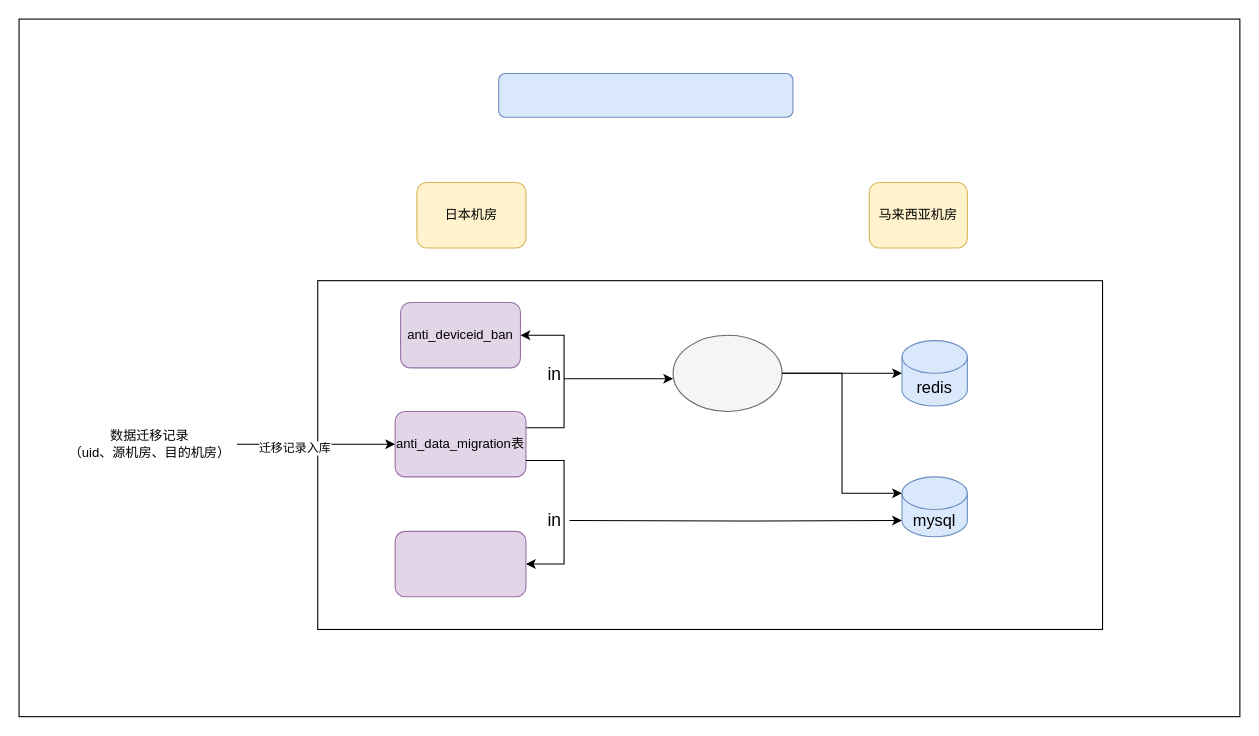
The diagram is 1259 pixels wide and 736 high, and some of its shapes have lost their labels. Here are the shapes that lost their labels. From the top down, the centre of each, then its label:
At (x=645, y=94): "宙斯盾数据迁移".
At (x=727, y=372): "宙斯盾封禁接口".
At (x=460, y=563): "anti_verify_uid_email _ip_daily表".
